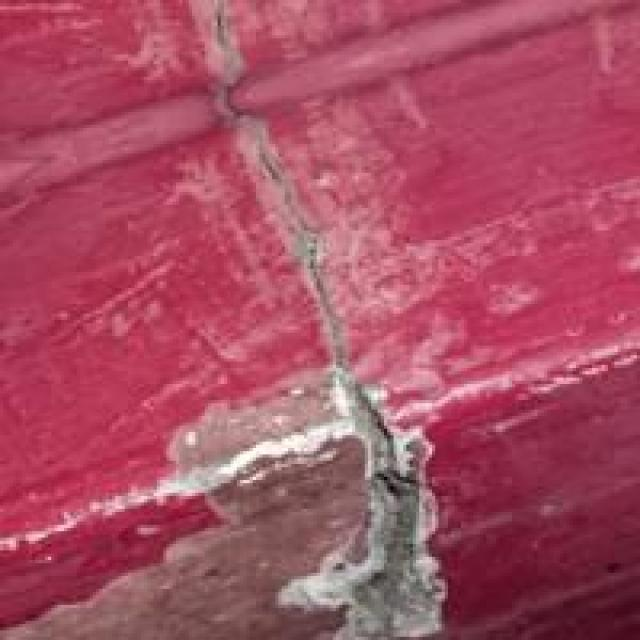crack: (134, 0, 490, 637)
